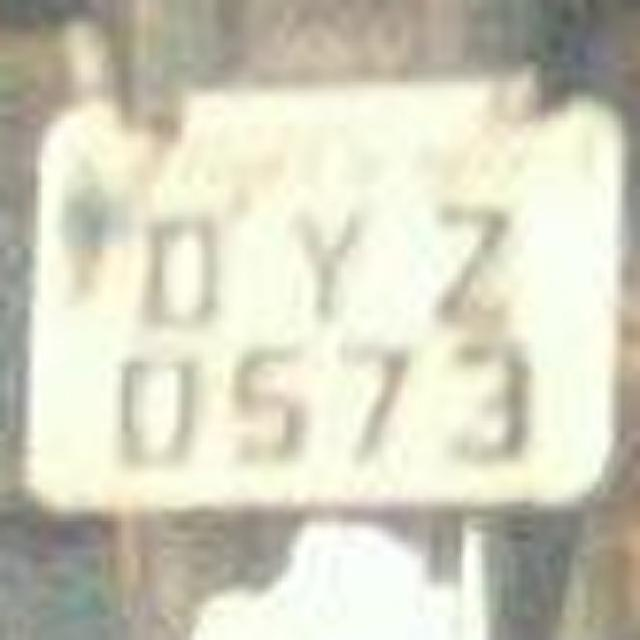0: (85, 324, 220, 484)
3: (391, 316, 564, 496)
5: (208, 324, 332, 476)
7: (305, 325, 440, 480)
Y: (256, 176, 396, 336)
Z: (392, 175, 540, 340)
